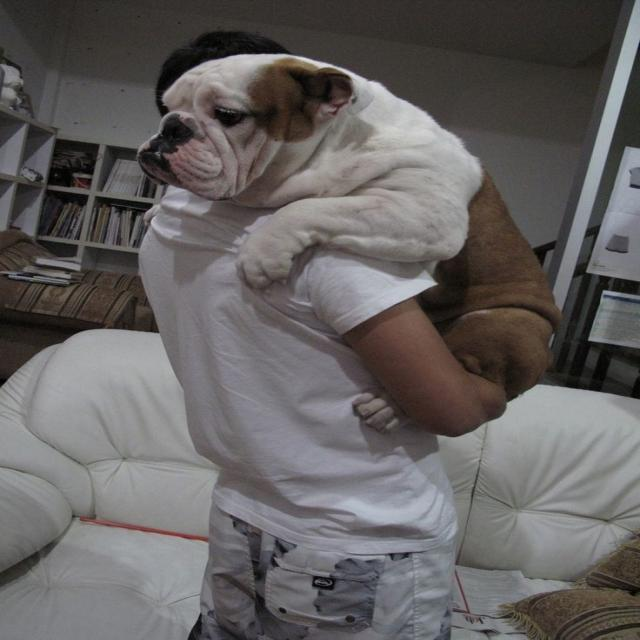Dogs: (139, 52, 565, 431)
